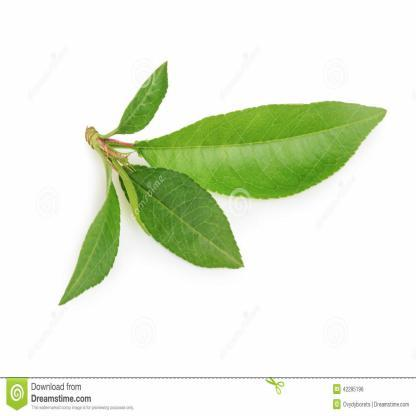Peach leaf: (135, 84, 396, 202), (113, 160, 252, 277), (42, 174, 122, 308), (112, 50, 180, 146)
